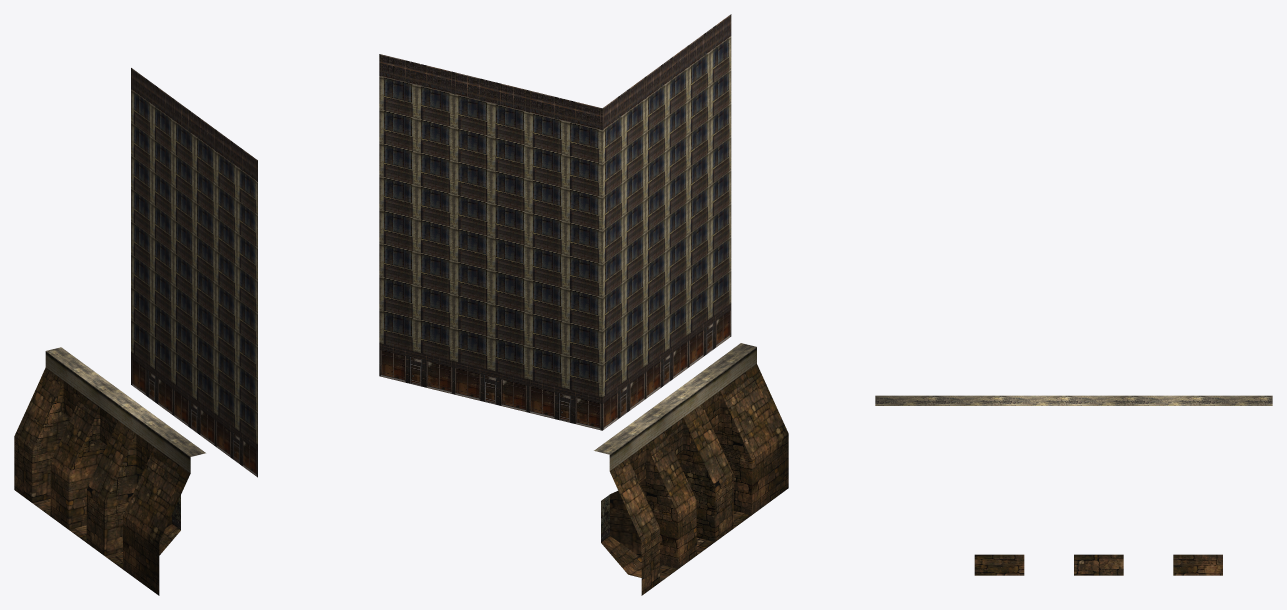
The model's file is M10_Z01_20_WallA.glb.
The picture shows the model from 3 angles, left to right: view 1: azimuth 30°, elevation 25°; view 2: azimuth 150°, elevation 25°; view 3: azimuth 270°, elevation 25°; orthographic projection. The views are drawn at different scales.
Visible parts, largest first — view 1: M10_Z01_20_WALLA; view 2: M10_Z01_20_WALLA; view 3: M10_Z01_20_WALLA.
Part boxes in pixels (bbox=[...]): M10_Z01_20_WALLA: bbox=[14, 68, 257, 595]; M10_Z01_20_WALLA: bbox=[379, 14, 788, 595]; M10_Z01_20_WALLA: bbox=[875, 395, 1272, 575].
Size of the model in its own units: 18.96 by 26.32 by 18.33.
6 materials, 6 textured.
